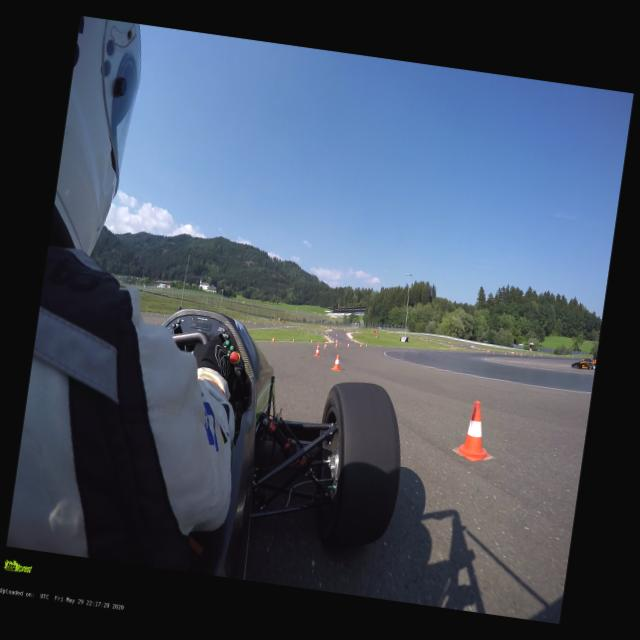orange_cone: (454, 400, 498, 463), (332, 354, 343, 371), (314, 346, 320, 356), (315, 344, 320, 354), (336, 342, 338, 348), (155, 320, 158, 324), (272, 337, 274, 342), (324, 344, 326, 348), (348, 343, 350, 347), (292, 339, 294, 342), (312, 339, 312, 343)
